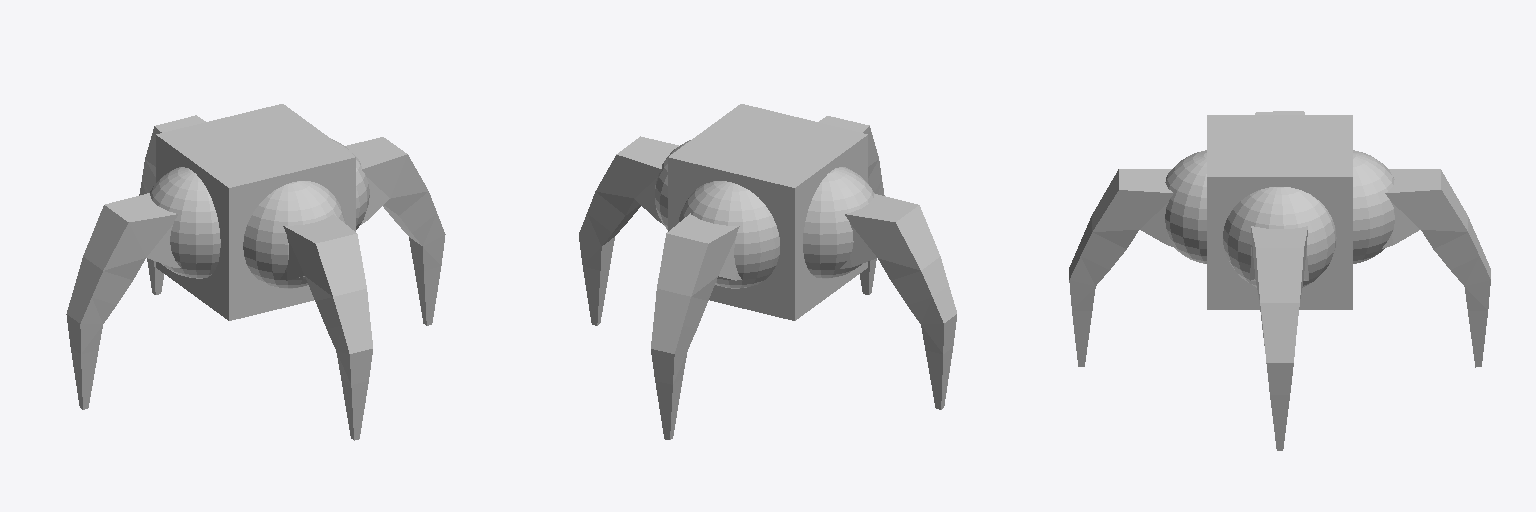
File: EnemyAnimation3.obj
The picture shows the model from 3 angles: view 1: azimuth 30°, elevation 25°; view 2: azimuth 150°, elevation 25°; view 3: azimuth 270°, elevation 25°; orthographic projection.
Parts seen in each view (by area): view 1: body_Cube.001, leg.002_Plane.002, leg.003_Plane.003, leg_Plane, Sphere.003_Sphere.004, Sphere.002_Sphere.003, leg.001_Plane.001, Sphere_Sphere.001; view 2: body_Cube.001, leg.002_Plane.002, leg.001_Plane.001, leg_Plane, Sphere.001_Sphere.002, Sphere.002_Sphere.003, leg.003_Plane.003, Sphere_Sphere.001; view 3: body_Cube.001, leg.003_Plane.003, leg.001_Plane.001, leg_Plane, Sphere_Sphere.001, Sphere.003_Sphere.004, Sphere.001_Sphere.002.
Part boxes in pixels (bbox=[...]): body_Cube.001: bbox=[156, 104, 355, 320]; leg.002_Plane.002: bbox=[66, 193, 180, 409]; leg.003_Plane.003: bbox=[280, 214, 372, 440]; leg_Plane: bbox=[346, 137, 445, 325]; Sphere.003_Sphere.004: bbox=[243, 181, 344, 288]; Sphere.002_Sphere.003: bbox=[150, 167, 220, 278]; leg.001_Plane.001: bbox=[139, 115, 205, 294]; Sphere_Sphere.001: bbox=[332, 139, 369, 229]; body_Cube.001: bbox=[668, 104, 867, 320]; leg.002_Plane.002: bbox=[840, 194, 956, 409]; leg.001_Plane.001: bbox=[651, 213, 741, 439]; leg_Plane: bbox=[579, 136, 678, 325]; Sphere.001_Sphere.002: bbox=[679, 181, 779, 288]; Sphere.002_Sphere.003: bbox=[803, 167, 874, 278]; leg.003_Plane.003: bbox=[819, 116, 884, 294]; Sphere_Sphere.001: bbox=[655, 140, 690, 229]; body_Cube.001: bbox=[1207, 115, 1352, 309]; leg.003_Plane.003: bbox=[1069, 169, 1175, 366]; leg.001_Plane.001: bbox=[1382, 169, 1490, 367]; leg_Plane: bbox=[1249, 226, 1308, 450]; Sphere_Sphere.001: bbox=[1223, 187, 1336, 287]; Sphere.003_Sphere.004: bbox=[1165, 150, 1206, 263]; Sphere.001_Sphere.002: bbox=[1353, 150, 1394, 263].
Bounding box in the file's own units: 5.75 × 3.31 × 5.75.